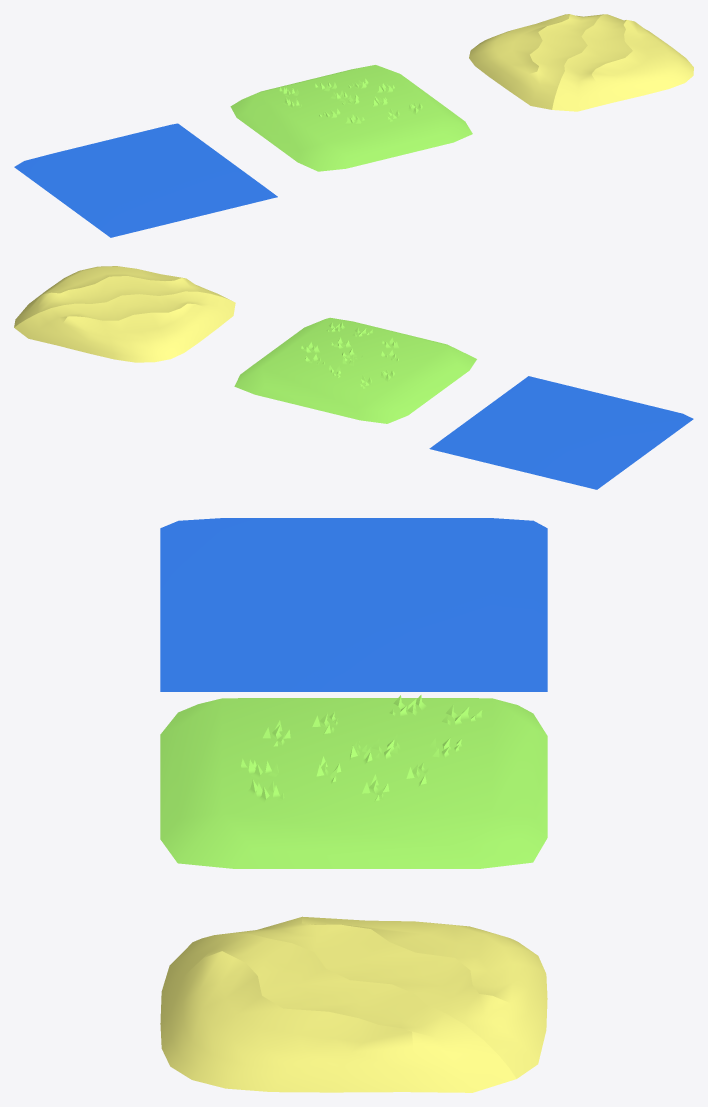
File: world-tiles.glb
3 views of the same model, one above another, from view 1: azimuth 30°, elevation 25°; view 2: azimuth 150°, elevation 25°; view 3: azimuth 270°, elevation 25° (orthographic). The views are drawn at different scales.
Visible parts, largest first — view 1: water, plane-grassy, sand; view 2: water, plane-grassy, sand; view 3: water, plane-grassy, sand.
Boxes of the visible parts, x1,y1,x2,y2 form: water: (14,123,277,237); plane-grassy: (230,65,472,171); sand: (469,14,693,111); water: (429,376,693,489); plane-grassy: (234,317,476,423); sand: (14,266,235,362); water: (160,518,547,691); plane-grassy: (160,695,547,868); sand: (160,916,547,1092).
Size of the model in its own units: 51.5 by 2.82 by 14.3.
